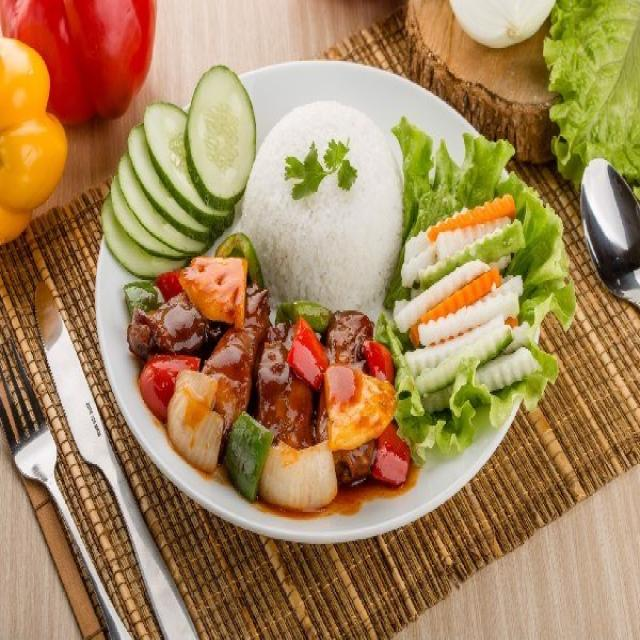com: (243, 101, 404, 311)
do chua: (393, 197, 539, 394)
dua leo: (103, 66, 254, 279)
rau: (375, 116, 575, 469)
rau ngo: (285, 137, 356, 199)
suon xao: (126, 258, 411, 510)
